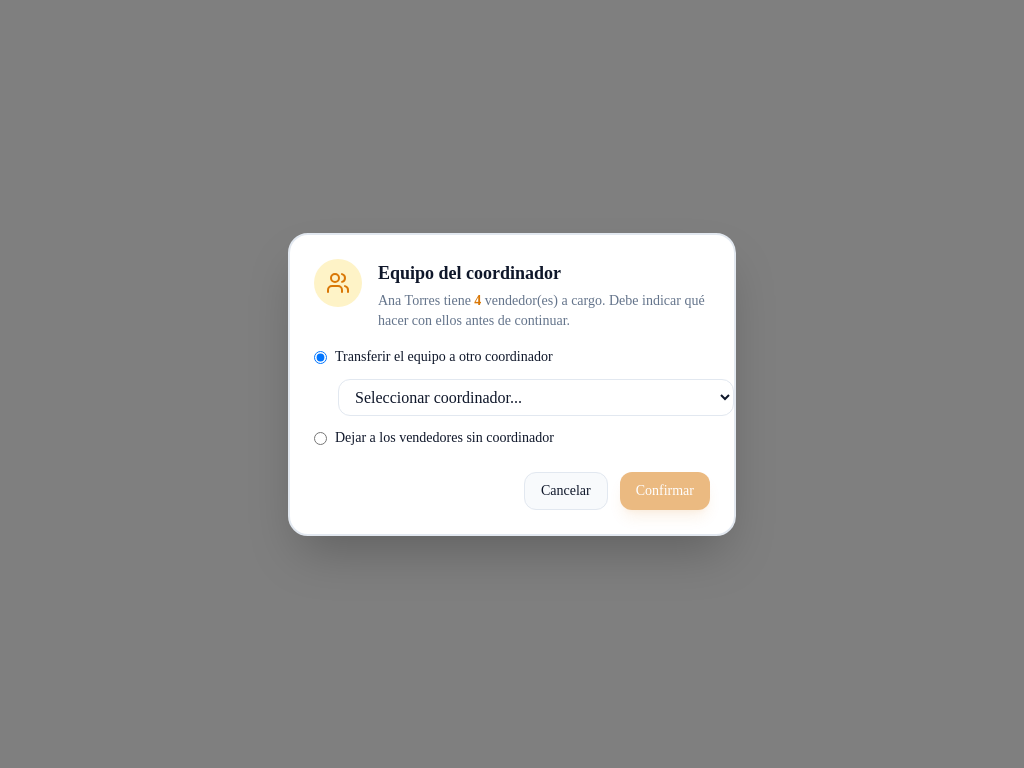
Test: EquipoDecisionModal › shows a warning that orphaned vendedores are only visible to admins/gerentes when 'dejar sin coordinador' is chosen
The width and height of the screenshot is (1024, 768).
Click the radio button labelled "Dejar a los vendedores sin coordinador".
click(320, 438)  # box [314, 432, 327, 444]
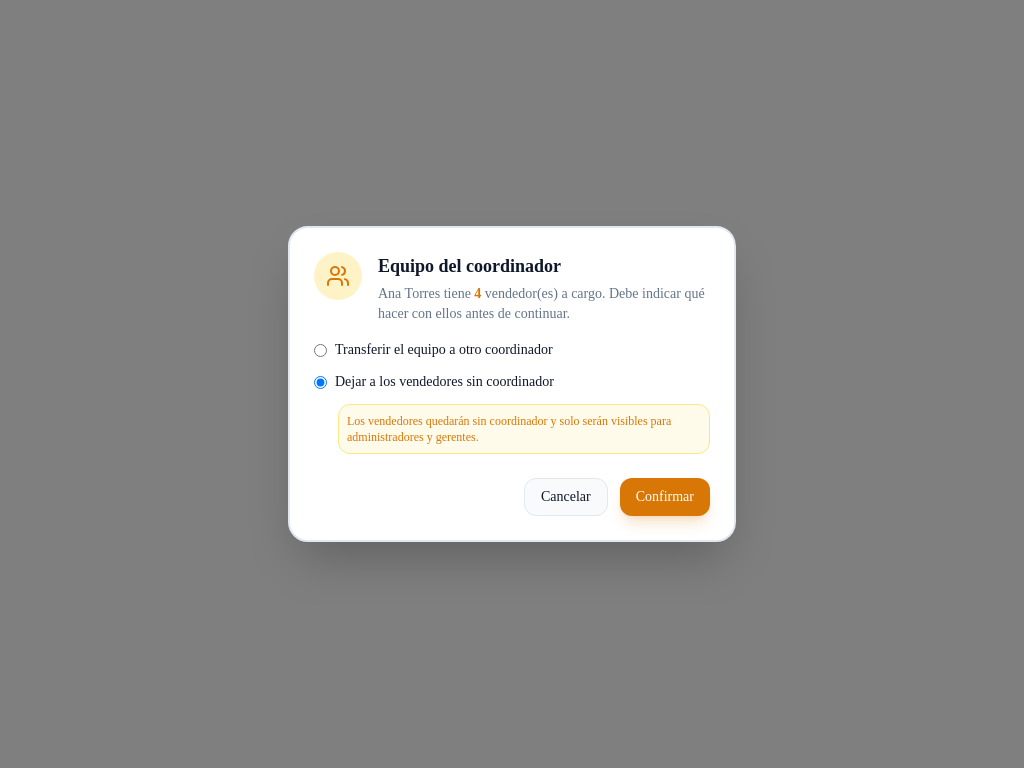
Now the text "gerente" is shown, box [347, 414, 671, 444]
